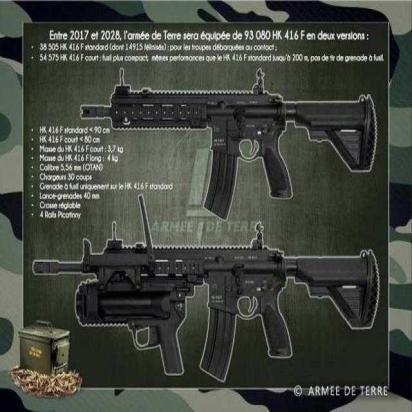Gun: (77, 64, 388, 221)
